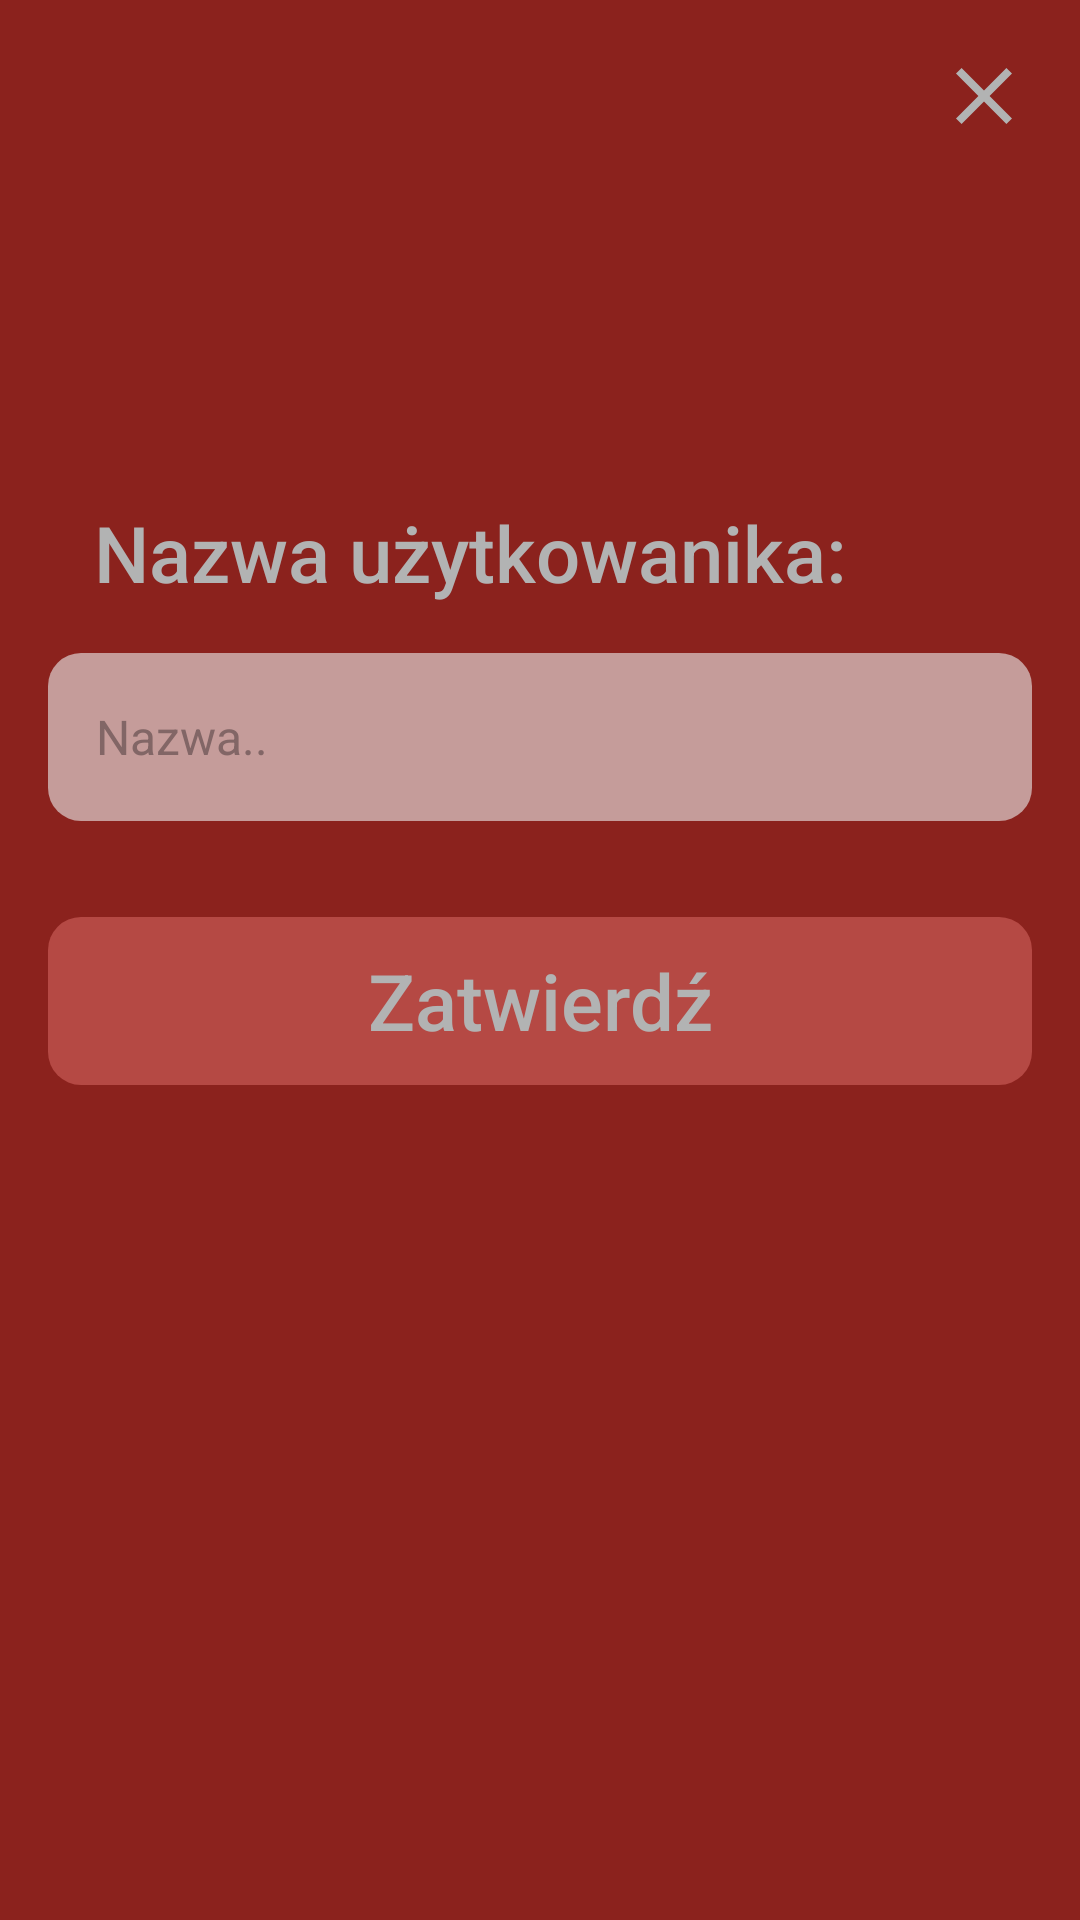

Icon bounding boxes for this 1080×1920 phone screenshot, format {"x1": x1, "y1": y1, "x2": x2, "y2": y2}:
close: {"x1": 956, "y1": 68, "x2": 1012, "y2": 124}
